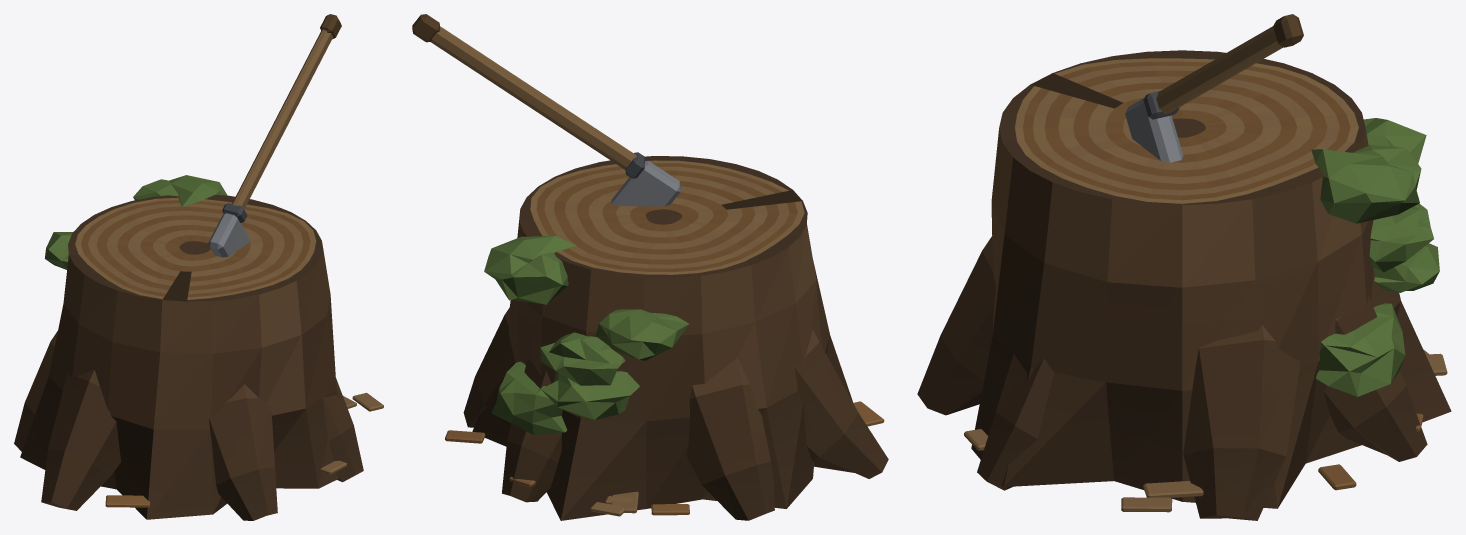
File: axe-chopping-stump.glb
3 renders of one model, left to right at view 1: azimuth 30°, elevation 25°; view 2: azimuth 150°, elevation 25°; view 3: azimuth 270°, elevation 25°, orthographic. The views are drawn at different scales.
Parts seen in each view (by area): view 1: axe_chopping_stump; view 2: axe_chopping_stump; view 3: axe_chopping_stump.
Part boxes in pixels (bbox=[...]): axe_chopping_stump: bbox=[14, 14, 383, 520]; axe_chopping_stump: bbox=[412, 14, 888, 520]; axe_chopping_stump: bbox=[917, 14, 1451, 520].
Size of the model in its own units: 1.16 by 1.14 by 1.05.
